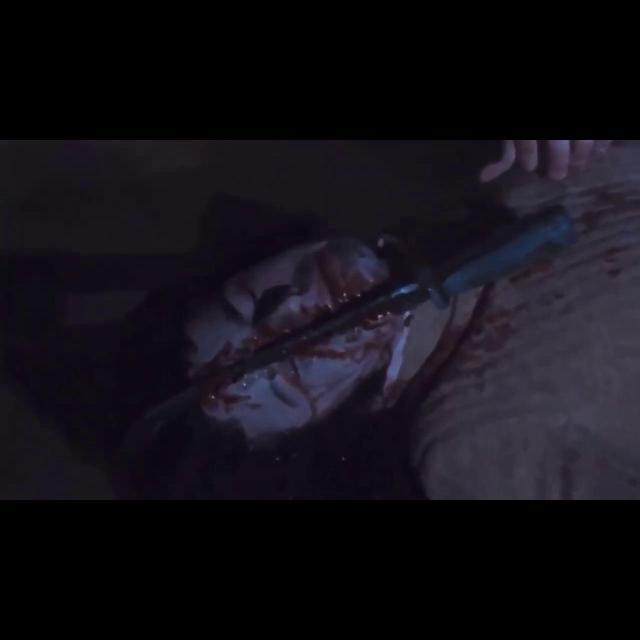blood: (188, 238, 388, 377), (202, 310, 412, 436)
